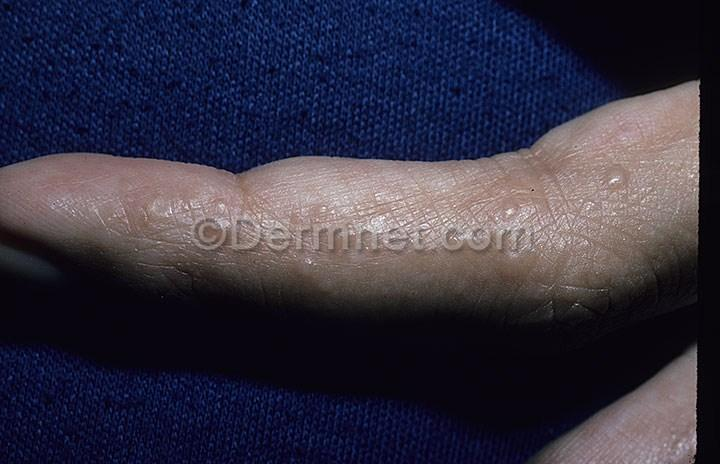Eczema: (297, 171, 438, 299), (68, 176, 271, 256), (474, 163, 562, 243), (579, 147, 660, 203)
